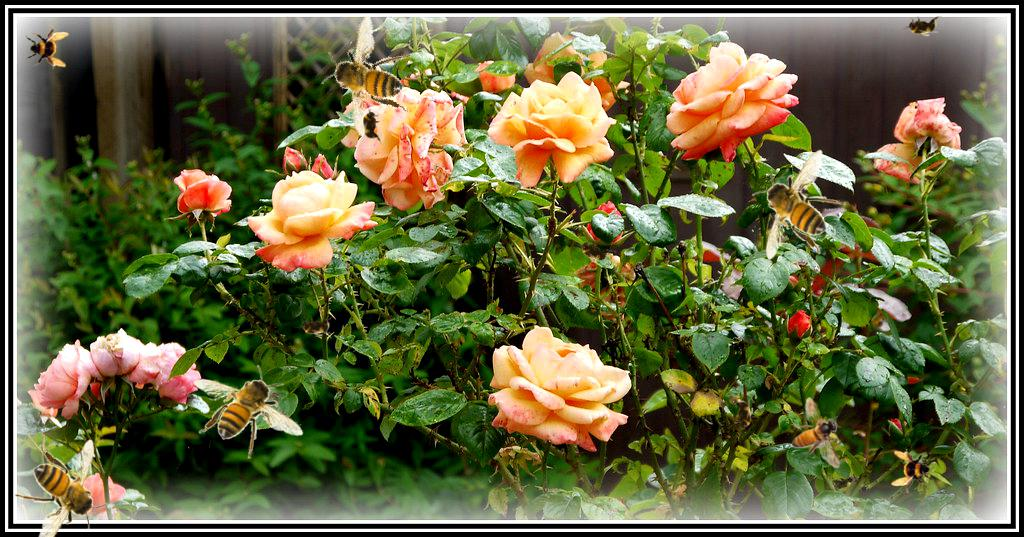Bee: (303, 4, 434, 144), (752, 149, 846, 260), (193, 365, 304, 459), (14, 439, 108, 537), (791, 397, 841, 468), (891, 449, 935, 493), (25, 25, 69, 69), (571, 231, 617, 271), (294, 313, 336, 339), (902, 15, 942, 37), (732, 395, 754, 435), (360, 105, 382, 145)
